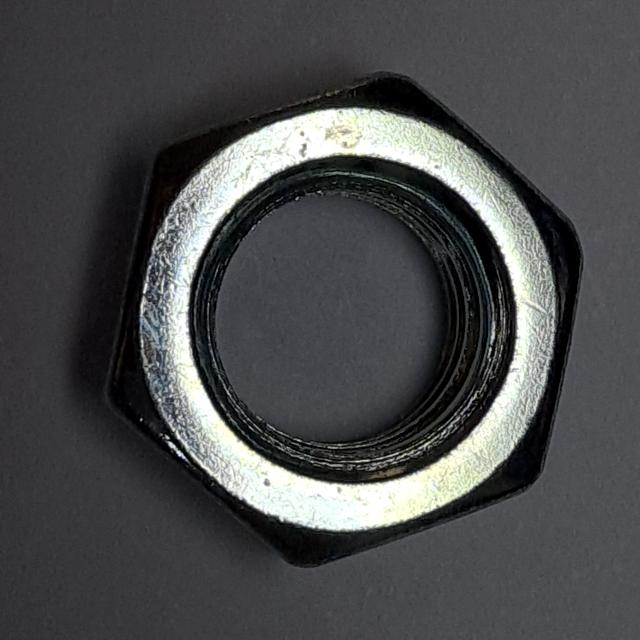Excellent: (85, 59, 595, 587)
